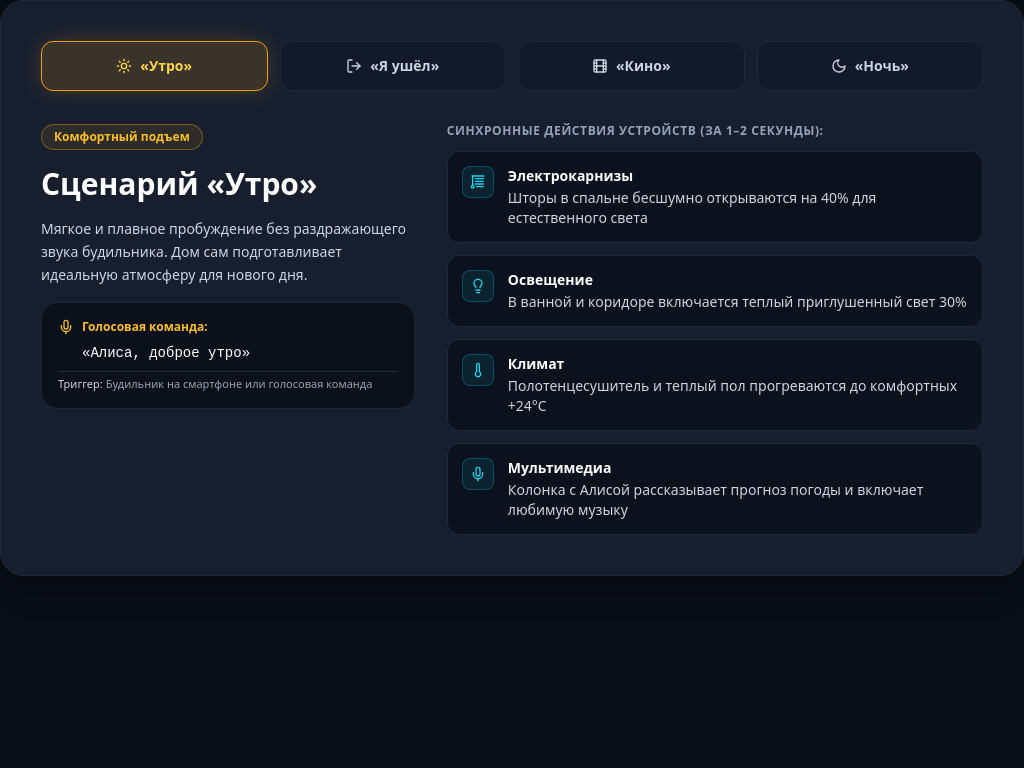
Scenario: ScenarioSwitcher Component › switches to "Ночь" scenario
The image size is (1024, 768).
Step 1. Click the button "«Ночь»" → (870, 66), box [756, 41, 983, 91]
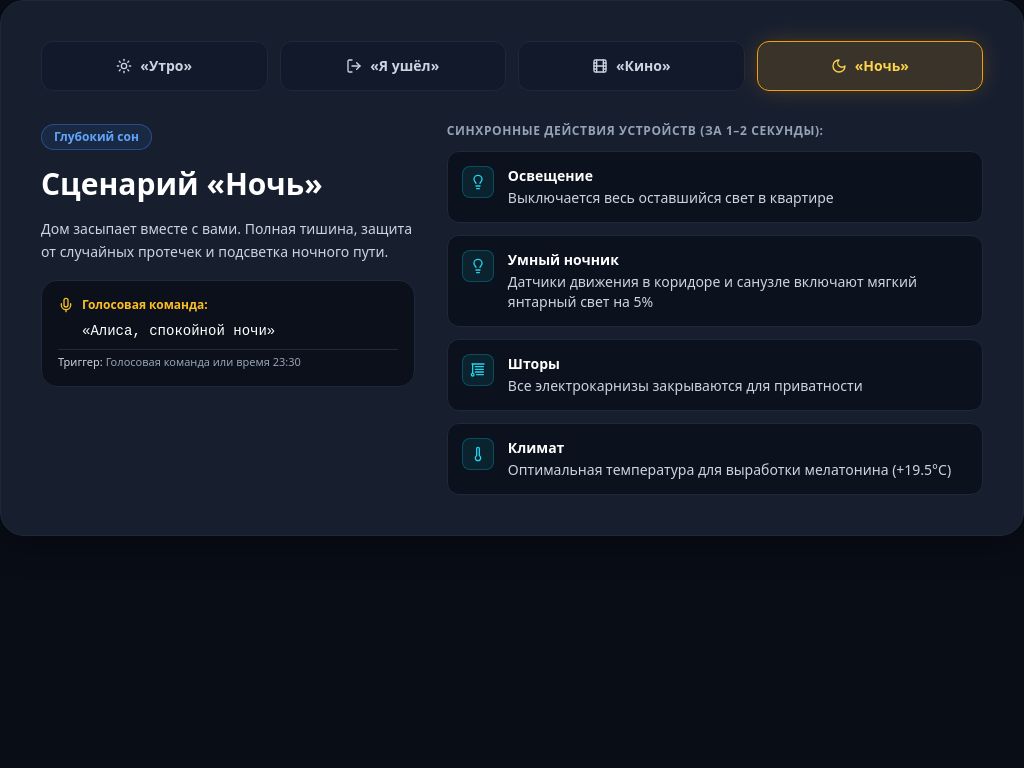
Expected: the heading "Сценарий «Ночь»" is shown, [41, 163, 323, 204]
Expected: the text "«Алиса, спокойной ночи»" is shown, [82, 322, 275, 338]
